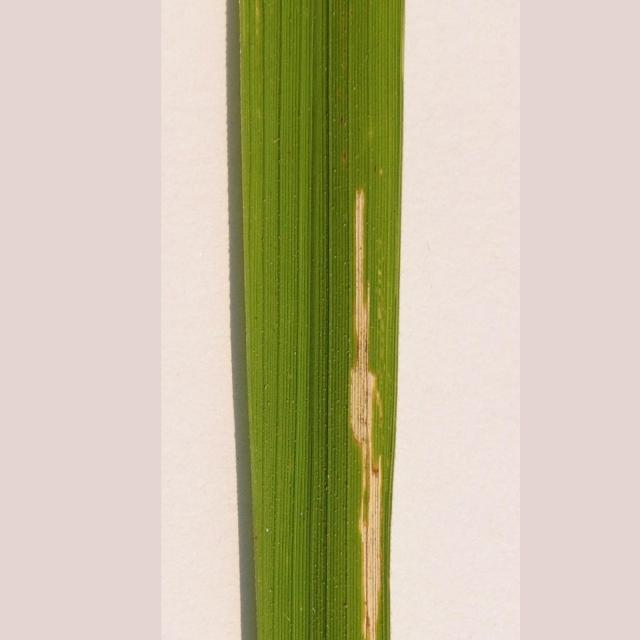leaf blight: (329, 184, 396, 640)
